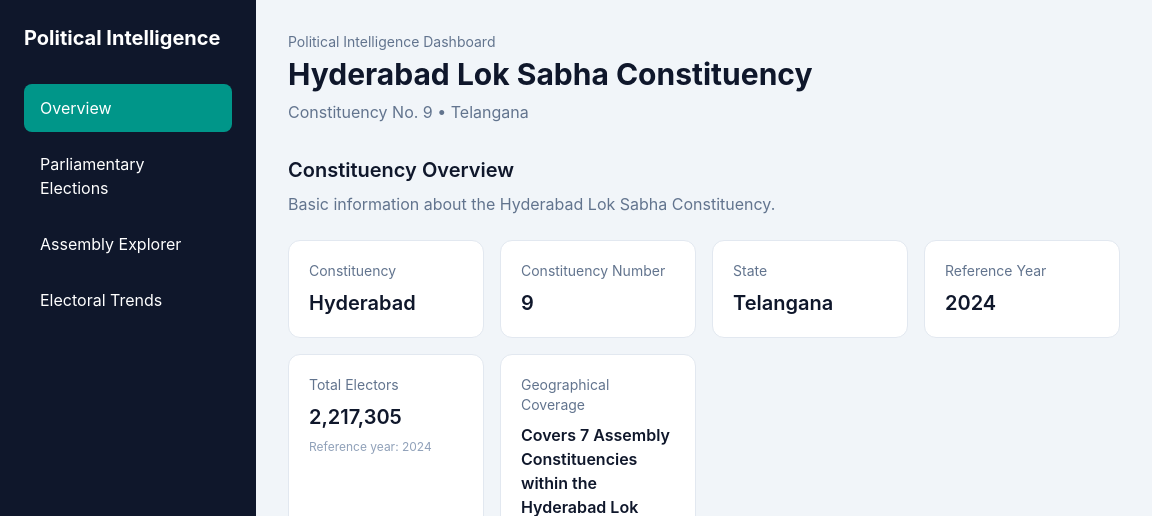
Scenario: App navigation › shows the main navigation and opens a selected section
The image size is (1152, 516).
Check: the navigation bar shows "Overview", box [24, 84, 232, 132]
Check: the navigation bar shows "Parliamentary Elections", box [24, 140, 232, 212]
Click the button "Electoral Trends" at {"x": 128, "y": 300}, box [24, 276, 232, 324]
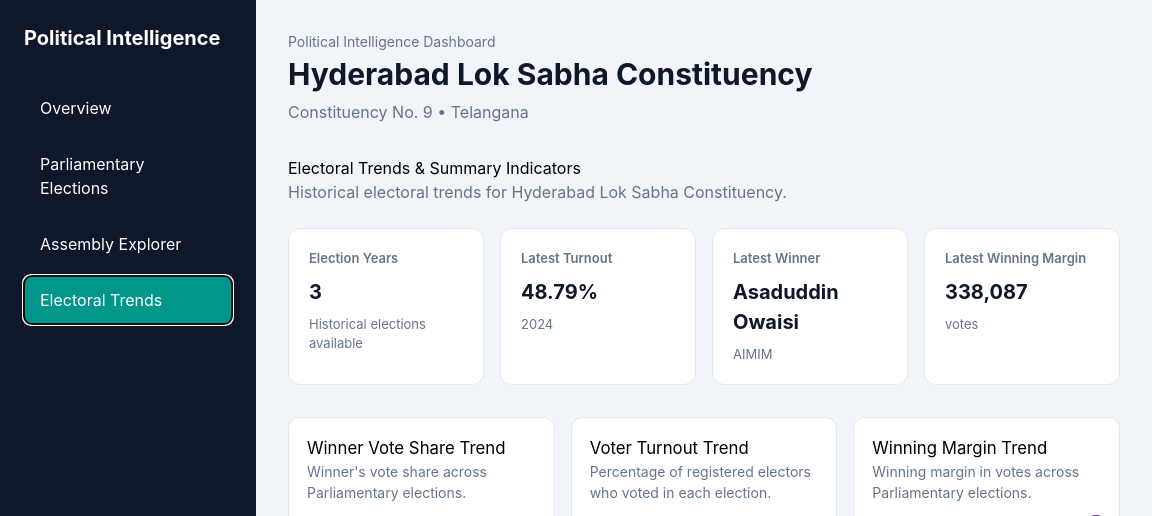
Check: the heading "Electoral Trends & Summary Indicators" is shown, box [288, 158, 581, 178]
